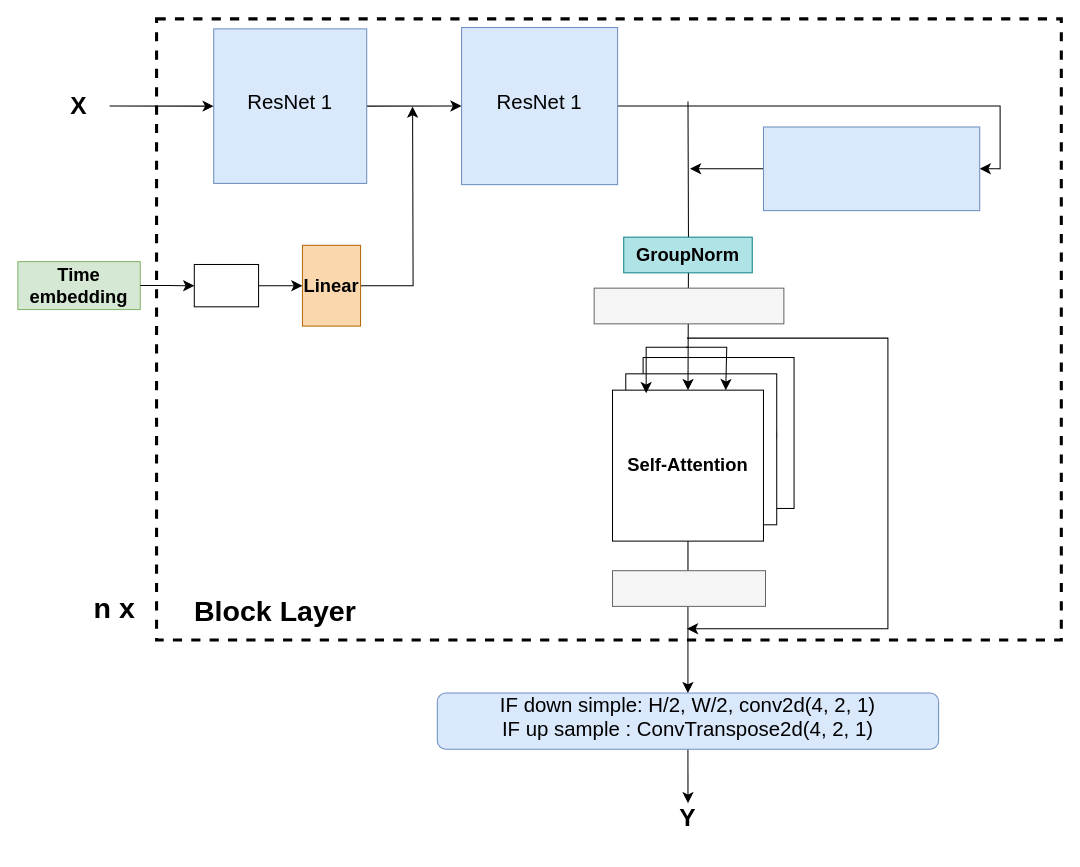
Some shapes in this 1080 by 867 pixel diagram are drawn without their labels. The centre of each missing label's shape, as x and y in pixels:
"ReLU" goes at point (226, 285).
"Reshape [B, C, H*W] --> [B, C, H, W]" goes at point (688, 588).
"Reshape [B, C, H, W] --> [B, H*W, C]" goes at point (688, 305).
"Residual Conv2D" goes at point (871, 168).
